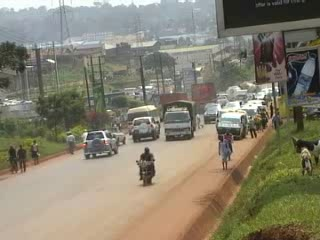Car: (128, 113, 164, 145), (83, 129, 120, 160), (203, 100, 223, 125), (223, 91, 244, 113)
Motorcycle: (135, 144, 159, 187)
